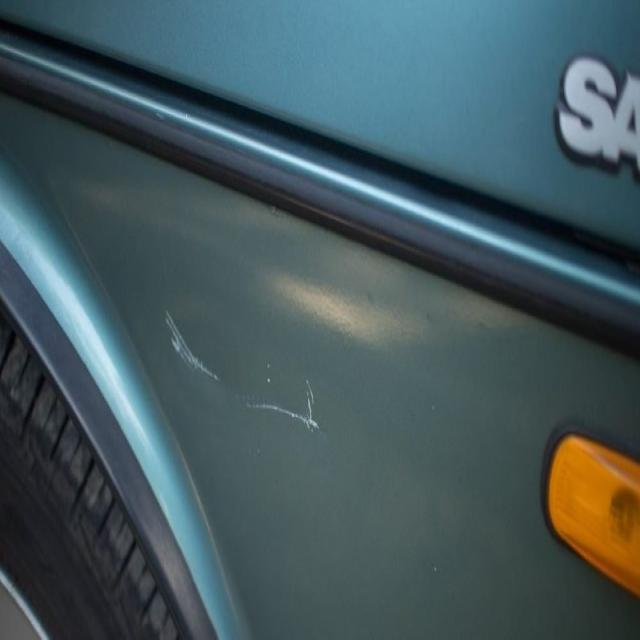scratch: (161, 298, 319, 435)
